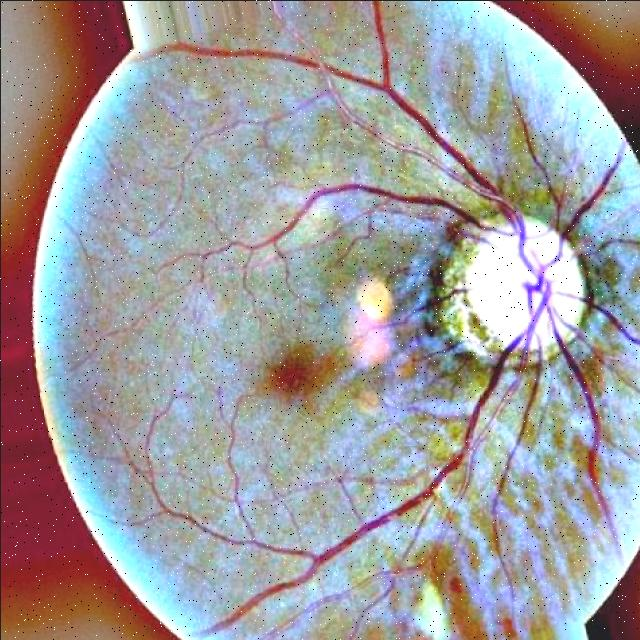Macula: (256, 341, 328, 421)
Nerves: (184, 50, 557, 624)
Optic Disk: (402, 194, 606, 390)
